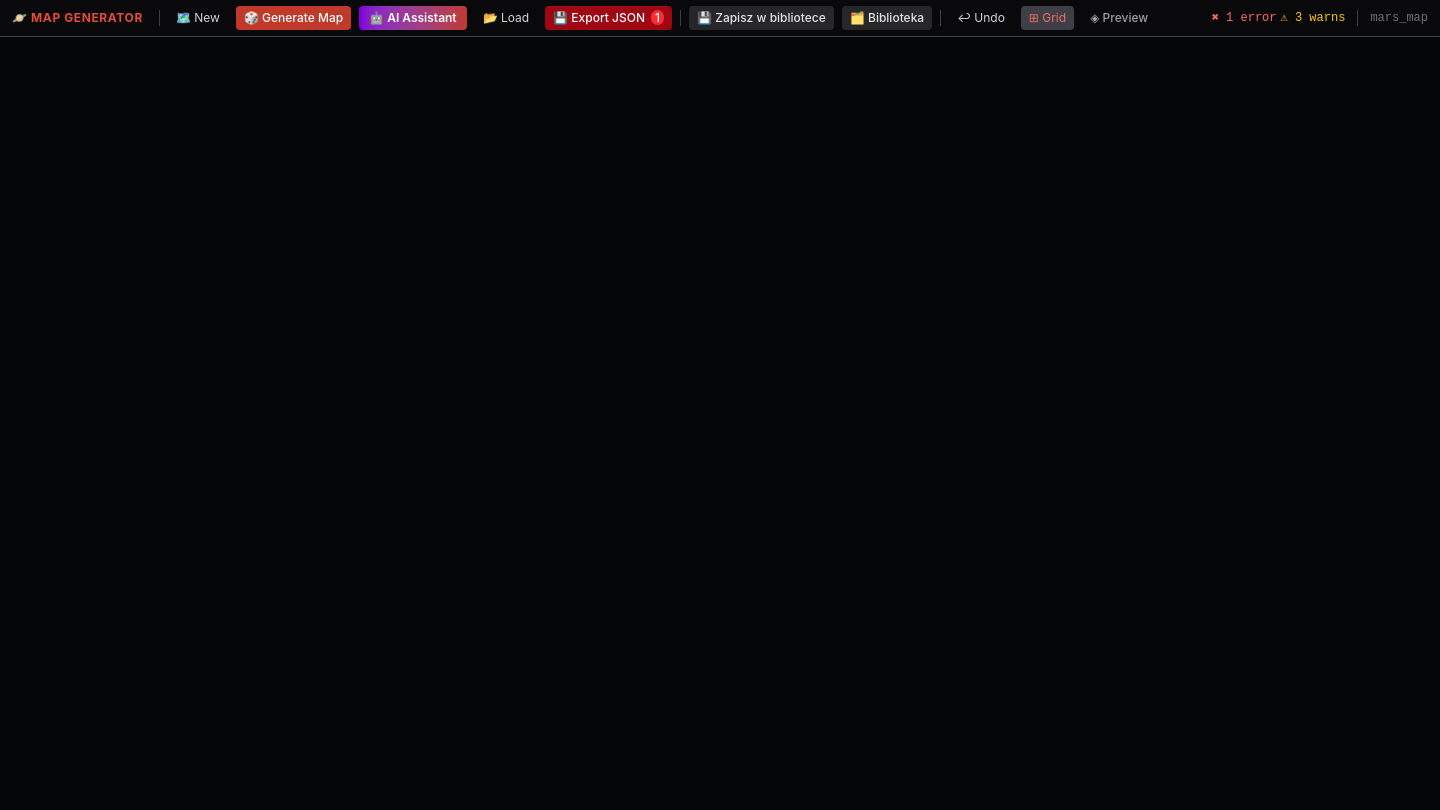
Test case: GeneratorToolbar - biblioteka map (T14) › opens map library when Biblioteka button is clicked
The image size is (1440, 810).
Click the button "🗂 Biblioteka". click: (887, 18)
box: [842,6,932,30]
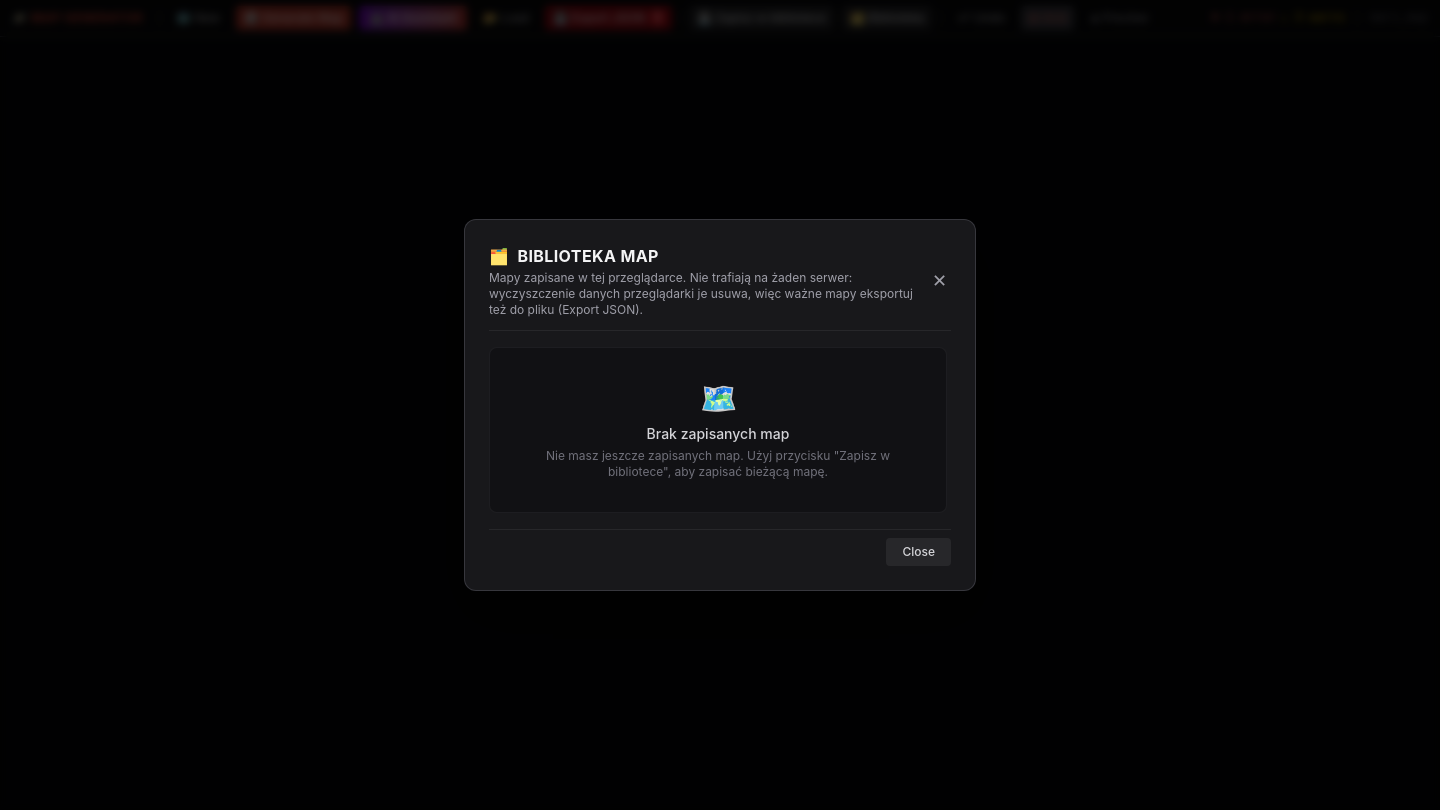
Expected: the heading "🗂 Biblioteka map" is shown, [489,246,659,266]
